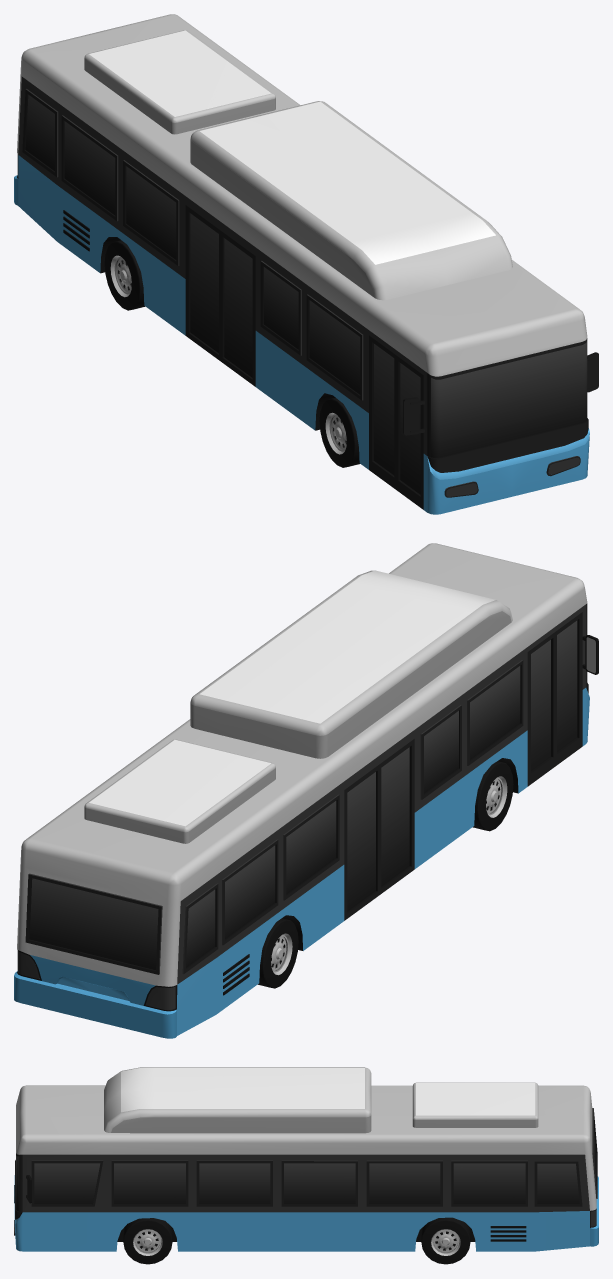
File: GongJiaoChe00.fbx
The picture shows the model from 3 angles, top to bottom: view 1: azimuth 30°, elevation 25°; view 2: azimuth 150°, elevation 25°; view 3: azimuth 270°, elevation 25°; orthographic projection. The views are drawn at different scales.
Visible parts, largest first — view 1: GongJiaoChe00; view 2: GongJiaoChe00; view 3: GongJiaoChe00.
Boxes of the visible parts, x1,y1,x2,y2 form: GongJiaoChe00: (14,14,598,514); GongJiaoChe00: (14,543,598,1038); GongJiaoChe00: (14,1067,598,1264).
Size of the model in its own units: 388 by 410 by 1455.
